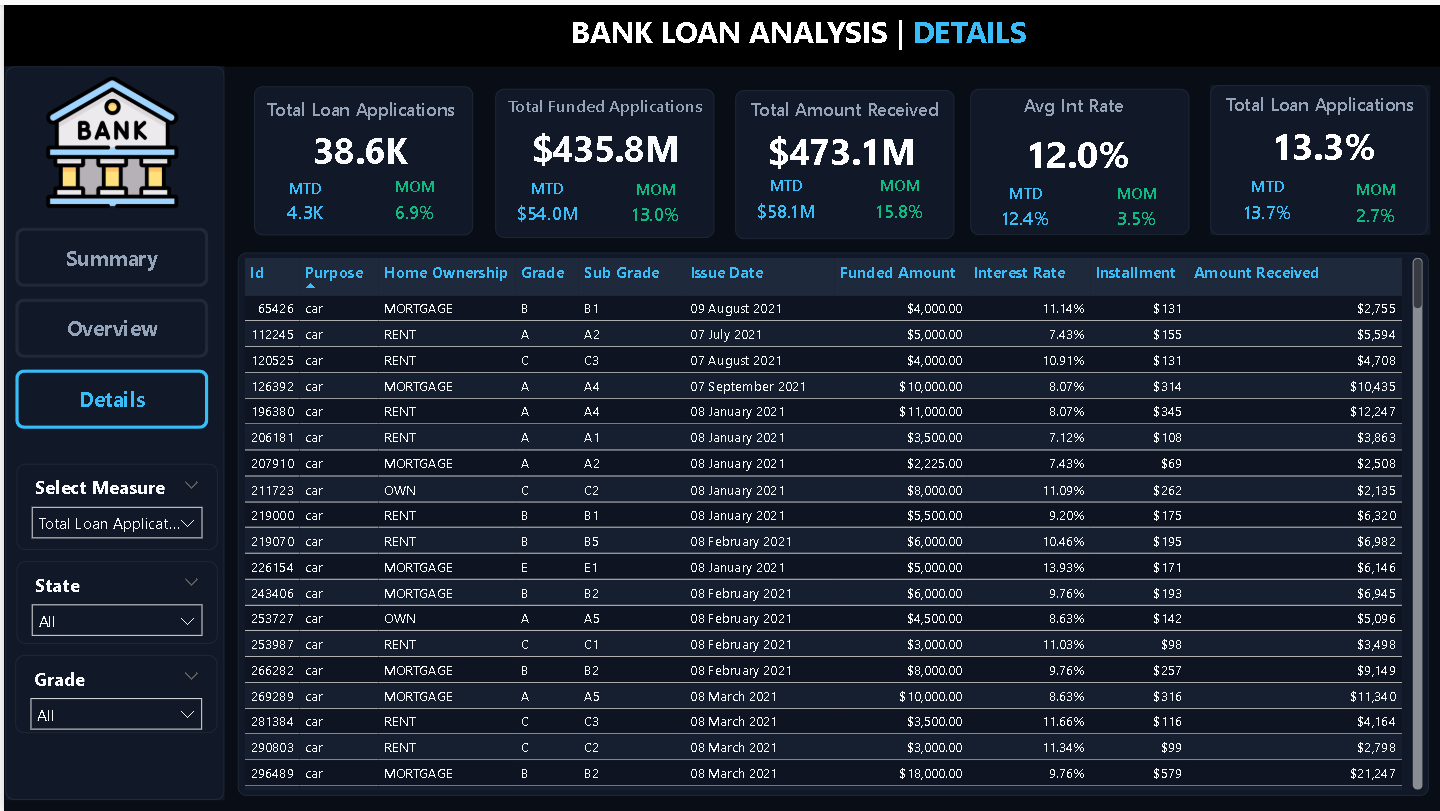

This screenshot's page, from the dashboard's own definition file:
{"tool":"powerbi","page":{"name":"Details","canvas":[1280,720],"ordinal":2},"visuals":[{"type":"shape","box":[1074.4,70.9,193.6,133.5],"z":0,"group":"g2"},{"type":"shape","box":[860.5,74.4,195,130.8],"z":0,"group":"g1"},{"type":"shape","box":[208.1,220.9,1060.5,483.7],"z":0},{"type":"shape","box":[0,0,1280,55],"z":1000},{"type":"card","fields":{"Values":["bank_loan_data.AVG DTI"]},"box":[1081.5,97.8,188.4,56.8],"z":1000,"group":"g2"},{"type":"card","fields":{"Values":["bank_loan_data.Avg Int Rate"]},"box":[862.5,100.7,186.7,64.2],"z":1000,"group":"g1"},{"type":"textbox","box":[387.2,0,641.9,54.7],"z":2000},{"type":"card","title":"MTD","fields":{"Values":["bank_loan_data.MTD Avg DTI"]},"box":[1091.7,151.9,67,50.7],"z":3000,"group":"g2"},{"type":"card","title":"MTD","fields":{"Values":["bank_loan_data.MTD Avg Interst Rate"]},"box":[878,157.5,63.4,49.4],"z":3000,"group":"g1"},{"type":"tableEx","fields":{"Values":["bank_loan_data.id","bank_loan_data.purpose","bank_loan_data.home_ownership","bank_loan_data.grade","bank_loan_data.sub_grade","bank_loan_data.issue_date","bank_loan_data.Total Funded Amount","Sum(bank_loan_data.int_rate)","Sum(bank_loan_data.installment)","bank_loan_data.Total Amount Received"]},"box":[208.1,220.9,1060.5,483.7],"z":3000},{"type":"shape","box":[1.2,54.7,195.3,653.5],"z":4000},{"type":"card","title":"MOM","fields":{"Values":["bank_loan_data.MOM Avg DTI"]},"box":[1189.1,154.2,66,50.7],"z":4000,"group":"g2"},{"type":"card","title":"MOM","fields":{"Values":["bank_loan_data.MOM Avg Int Rate"]},"box":[980.2,157.5,58.7,49.4],"z":4000,"group":"g1"},{"type":"pageNavigator","box":[10.5,197.7,172.1,181.4],"z":5000},{"type":"image","box":[25.6,64,141.9,117.4],"z":6000},{"type":"slicer","fields":{"Values":["bank_loan_data.address_state"]},"box":[11.6,495.4,179.1,73.3],"z":7000},{"type":"slicer","fields":{"Values":["bank_loan_data.grade"]},"box":[10.5,579.1,180.2,69.8],"z":8000},{"type":"slicer","fields":{"Values":["Select Measure.Select Measure"]},"box":[11.6,408.1,179.1,76.7],"z":10000},{"type":"shape","box":[222.1,72.1,195.3,133],"z":11000},{"type":"shape","box":[437.2,74.4,195.3,133],"z":12000},{"type":"shape","box":[651.2,75.6,195.3,133],"z":13000},{"type":"group","id":"g1","title":"Group 1","box":[860.5,74.4,195,133],"z":14000},{"type":"group","id":"g2","title":"Group 1","box":[1074.4,70.9,195.3,133.7],"z":15000},{"type":"card","fields":{"Values":["bank_loan_data.Total Loan Applications"]},"box":[222.1,100,190.7,59.3],"z":16000},{"type":"card","fields":{"Values":["bank_loan_data.Total Amount Received"]},"box":[647.7,97.7,196.5,65.1],"z":17000},{"type":"card","fields":{"Values":["bank_loan_data.Total Funded Amount"]},"box":[438.4,96.5,194.2,61.6],"z":18000},{"type":"card","title":"MOM","fields":{"Values":["bank_loan_data.MoM Applications"]},"box":[336,152.3,59.3,50],"z":19000},{"type":"card","title":"MTD","fields":{"Values":["bank_loan_data.MTD Loan Applications"]},"box":[237.2,153.5,62.8,46.5],"z":20000},{"type":"card","title":"MTD","fields":{"Values":["bank_loan_data.MTD Funded Amount"]},"box":[451.2,153.5,66.3,50],"z":21000},{"type":"card","title":"MOM","fields":{"Values":["bank_loan_data.MoM Total Funded Amount"]},"box":[552.3,154.7,57,50],"z":22000},{"type":"card","title":"MTD","fields":{"Values":["bank_loan_data.MTD Total Amount Recieved"]},"box":[662.8,151.2,68.6,51.2],"z":23000},{"type":"card","title":"MOM","fields":{"Values":["bank_loan_data.MOM Total Amount Recieved"]},"box":[764,151.2,68.6,51.2],"z":24000},{"type":"textbox","box":[222.1,75.6,190.7,37.2],"z":25000},{"type":"textbox","box":[437.2,74.4,195.3,40.7],"z":26000},{"type":"textbox","box":[651.2,75.6,195.3,38.4],"z":27000},{"type":"textbox","box":[860.5,72.1,189.5,43],"z":28000},{"type":"textbox","box":[1074.4,70.9,195.3,44.2],"z":29000}]}

Visuals, with their boxes in screenshot pixels (x1, y1, x2, y2), scaled from the page's 1280x720 canvas onto the 1440x811 screenshot:
shape: left=1209, top=80, right=1426, bottom=230
shape: left=968, top=84, right=1187, bottom=231
shape: left=234, top=249, right=1427, bottom=794
shape: left=0, top=0, right=1439, bottom=62
card - bank_loan_data.AVG DTI: left=1217, top=110, right=1429, bottom=174
card - bank_loan_data.Avg Int Rate: left=970, top=113, right=1180, bottom=186
textbox: left=436, top=0, right=1158, bottom=62
"MTD" card: left=1228, top=171, right=1304, bottom=228
"MTD" card: left=988, top=177, right=1059, bottom=233
tableEx - bank_loan_data.id x bank_loan_data.purpose: left=234, top=249, right=1427, bottom=794
shape: left=1, top=62, right=221, bottom=798
"MOM" card: left=1338, top=174, right=1412, bottom=231
"MOM" card: left=1103, top=177, right=1169, bottom=233
pageNavigator: left=12, top=223, right=205, bottom=427
image: left=29, top=72, right=188, bottom=204
slicer - bank_loan_data.address_state: left=13, top=558, right=215, bottom=641
slicer - bank_loan_data.grade: left=12, top=652, right=215, bottom=731
slicer - Select Measure.Select Measure: left=13, top=460, right=215, bottom=546
shape: left=250, top=81, right=470, bottom=231
shape: left=492, top=84, right=712, bottom=234
shape: left=733, top=85, right=952, bottom=235
"Group 1" group: left=968, top=84, right=1187, bottom=234
"Group 1" group: left=1209, top=80, right=1428, bottom=230
card - bank_loan_data.Total Loan Applications: left=250, top=113, right=464, bottom=179
card - bank_loan_data.Total Amount Received: left=729, top=110, right=950, bottom=183
card - bank_loan_data.Total Funded Amount: left=493, top=109, right=712, bottom=178
"MOM" card: left=378, top=172, right=445, bottom=228
"MTD" card: left=267, top=173, right=338, bottom=225
"MTD" card: left=508, top=173, right=582, bottom=229
"MOM" card: left=621, top=174, right=685, bottom=231
"MTD" card: left=746, top=170, right=823, bottom=228
"MOM" card: left=860, top=170, right=937, bottom=228
textbox: left=250, top=85, right=464, bottom=127
textbox: left=492, top=84, right=712, bottom=130
textbox: left=733, top=85, right=952, bottom=128
textbox: left=968, top=81, right=1181, bottom=130
textbox: left=1209, top=80, right=1428, bottom=130
